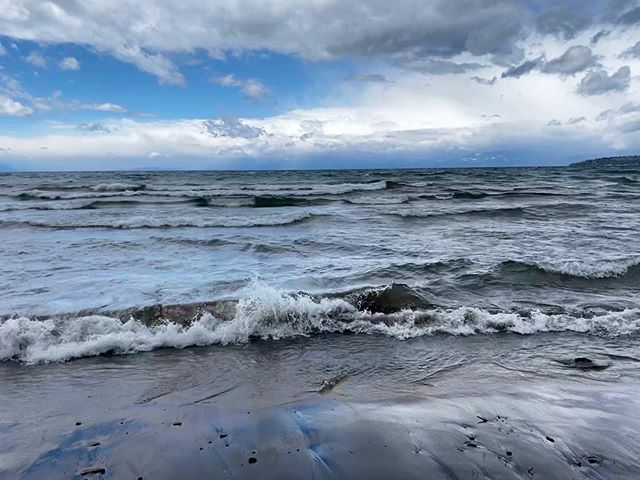sea: (11, 168, 640, 414)
sky: (6, 1, 640, 163)
